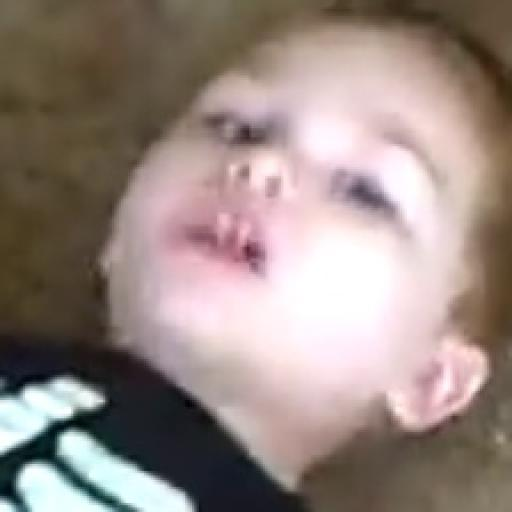Autism: (77, 36, 512, 486)
